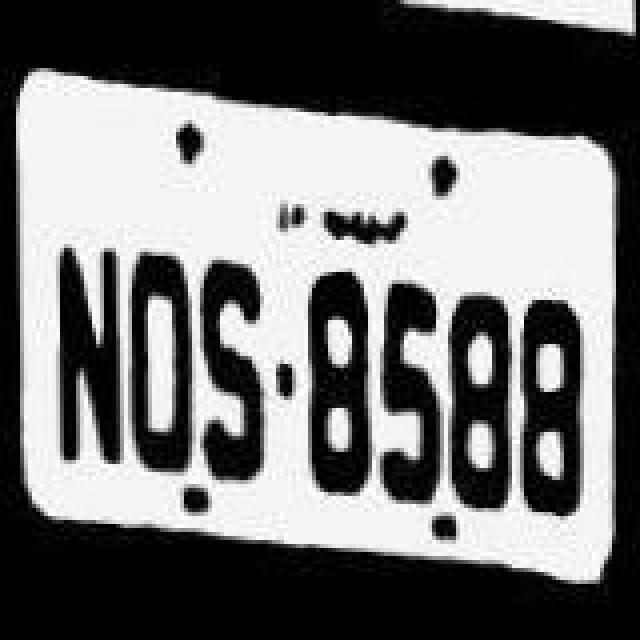5: (376, 262, 452, 502)
8: (516, 284, 600, 524), (302, 262, 382, 498), (442, 282, 522, 514)
N: (46, 238, 130, 490)
O: (126, 246, 202, 486)
S: (200, 250, 280, 482)
